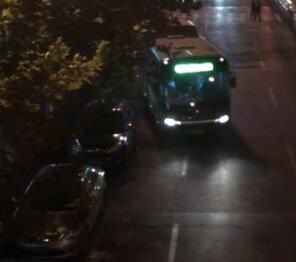bus: (133, 10, 238, 138)
car: (2, 158, 109, 255), (65, 92, 134, 162)
